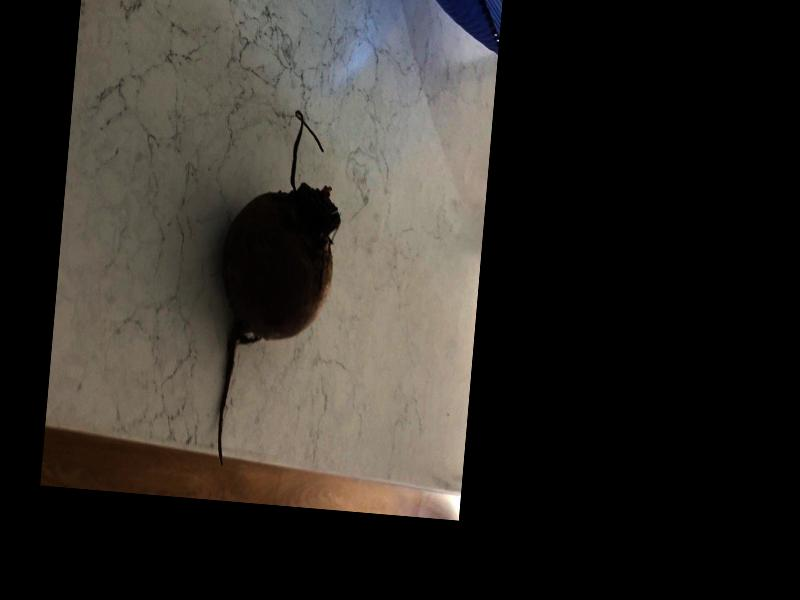Beet: (206, 106, 346, 477)
